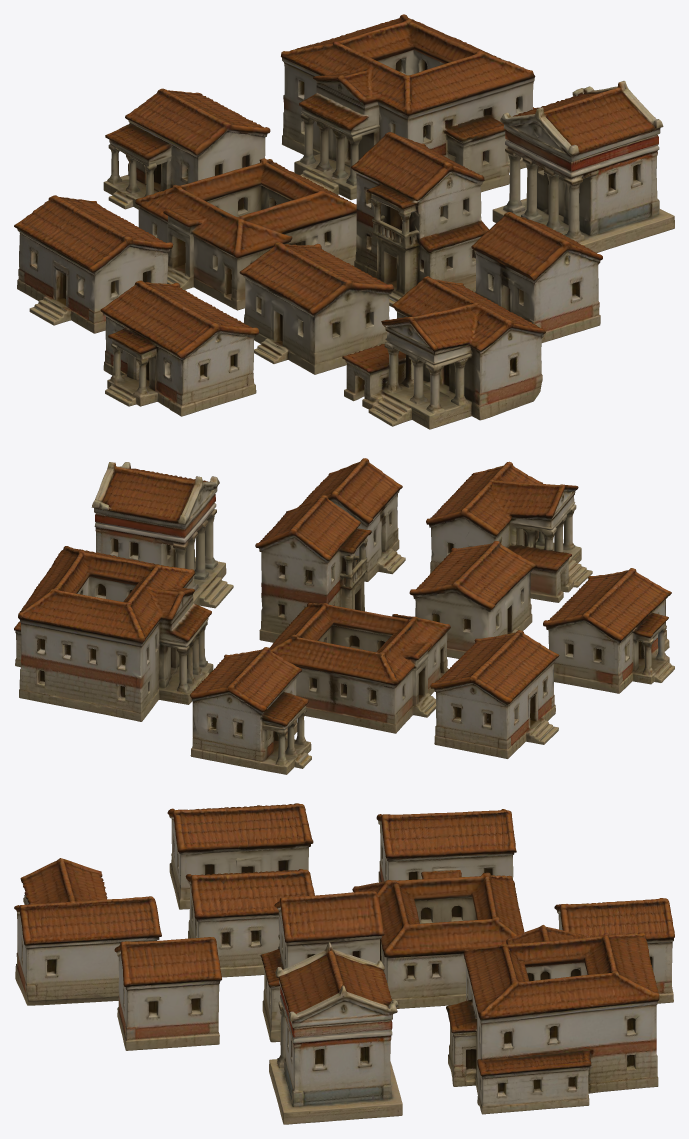
The model's file is Classical Village (Greco-Roman).fbx.
3 renders of one model, top to bottom at view 1: azimuth 30°, elevation 25°; view 2: azimuth 150°, elevation 25°; view 3: azimuth 270°, elevation 25°, orthographic. The views are drawn at different scales.
Visible parts, largest first — view 1: tripo_node_46e54228; view 2: tripo_node_46e54228; view 3: tripo_node_46e54228.
Part boxes in pixels (x1=…): tripo_node_46e54228: x1=14, y1=14, x2=674, y2=429; tripo_node_46e54228: x1=14, y1=458, x2=674, y2=774; tripo_node_46e54228: x1=14, y1=803, x2=674, y2=1124.
Bounding box in the file's own units: 1 × 0.2312 × 0.9958.
